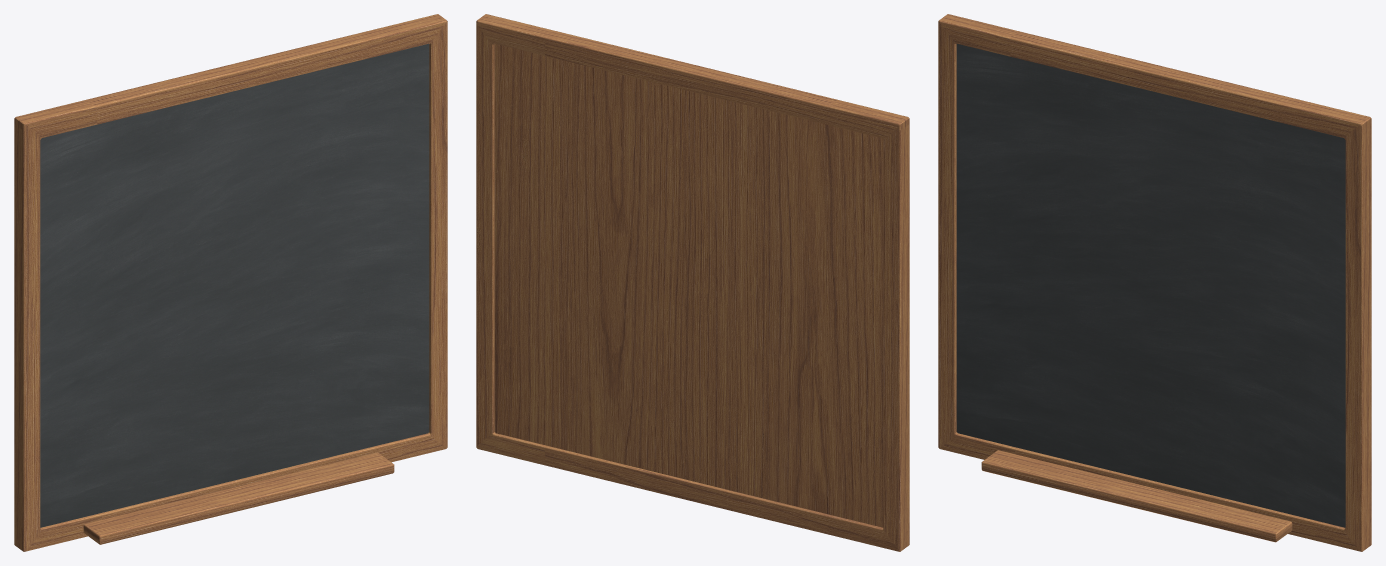
File: SM_chalkboard_02.fbx
3 views of the same model, side by side, from view 1: azimuth 30°, elevation 25°; view 2: azimuth 150°, elevation 25°; view 3: azimuth 330°, elevation 25° (orthographic).
Visible parts, largest first — view 1: chalkboard02; view 2: chalkboard02; view 3: chalkboard02.
Boxes of the visible parts, x1,y1,x2,y2 form: chalkboard02: [14, 14, 447, 551]; chalkboard02: [476, 14, 909, 551]; chalkboard02: [938, 14, 1371, 551].
Bounding box in the file's own units: 88.45 × 85.3 × 9.63.
Materials: 2 (2 with a texture image).
